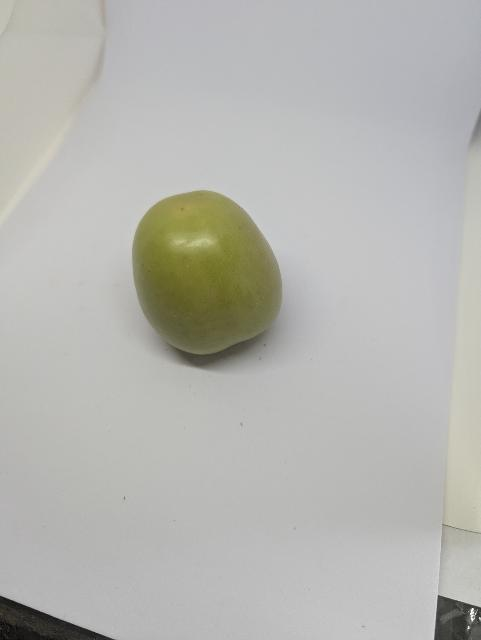green: (117, 177, 308, 379)
